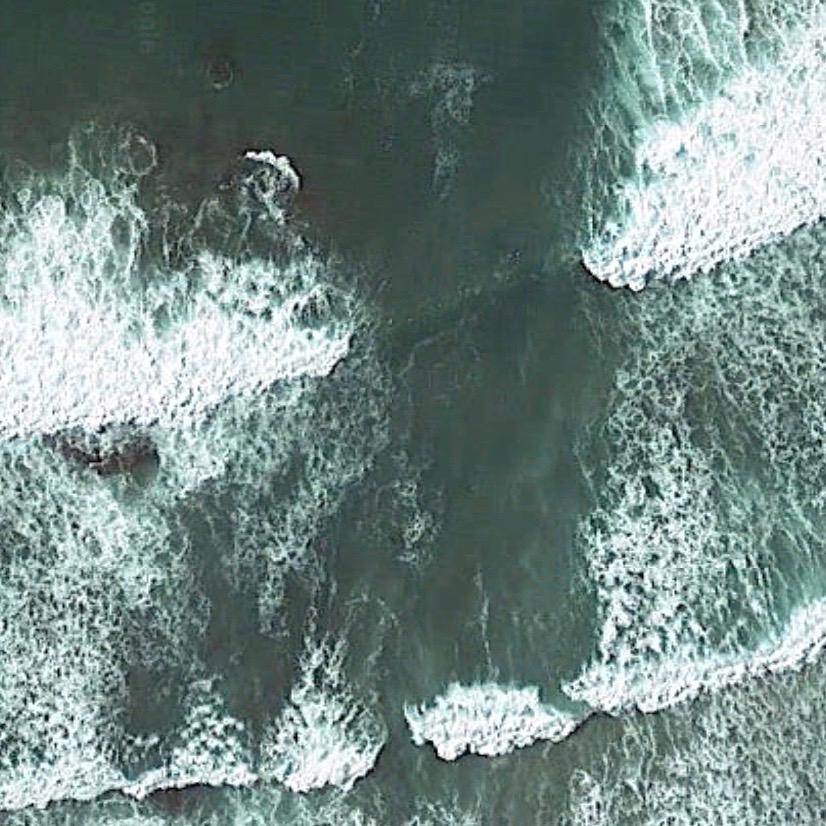rip_current: (247, 151, 641, 752)
